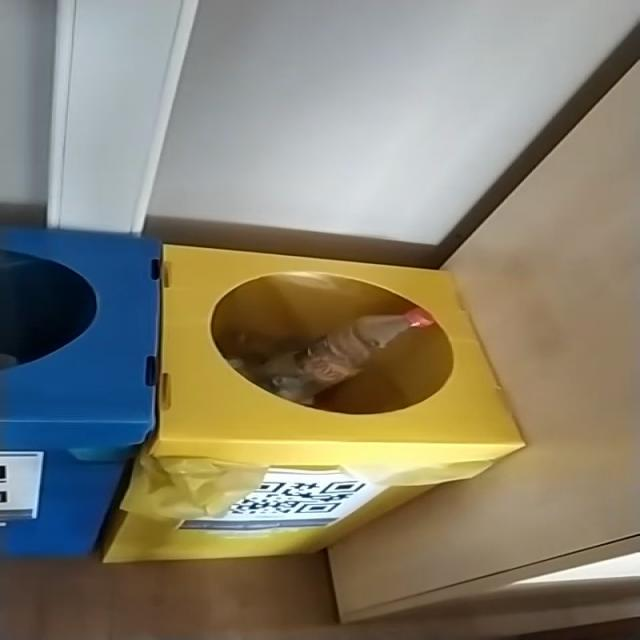plastic: (229, 308, 435, 405)
